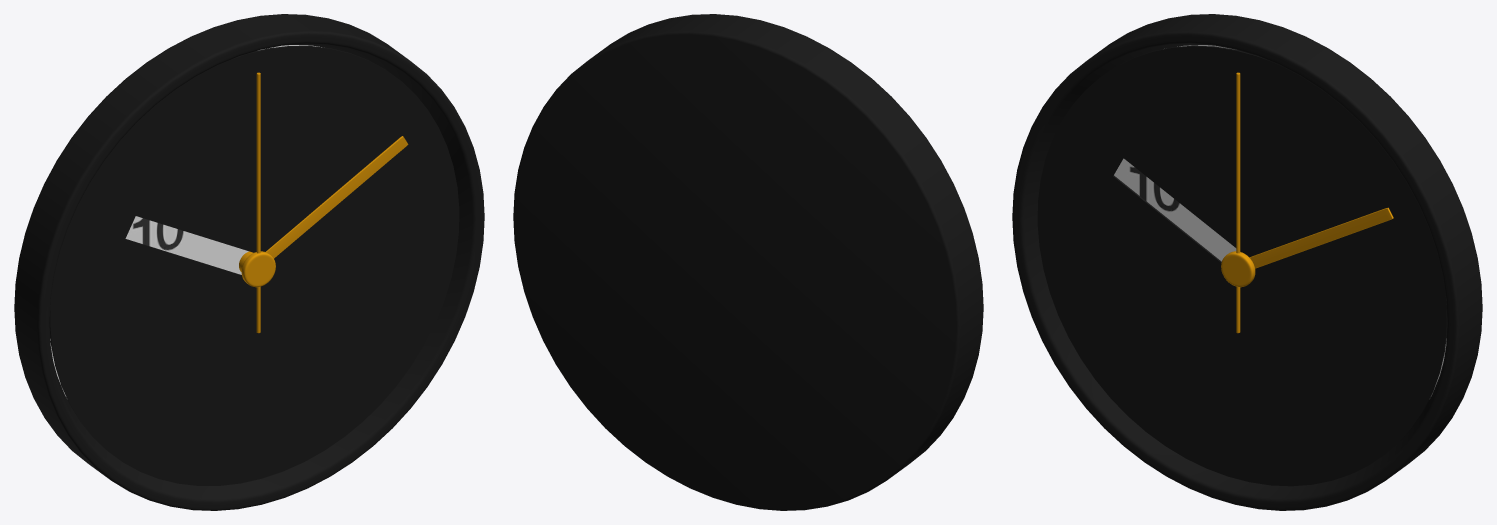
Rendered from Reloj_de_Pared.glb.
3 renders of one model, left to right at view 1: azimuth 30°, elevation 25°; view 2: azimuth 150°, elevation 25°; view 3: azimuth 330°, elevation 25°, orthographic.
Visible parts, largest first — view 1: Hora_RN 2, Cuerpo_RN_Cuerpo_RN, Cuerpo_RN_Cuerpo_RN 2, Secundero_RN 2, Minutero_RN 2; view 2: Cuerpo_RN_Cuerpo_RN; view 3: Hora_RN 2, Cuerpo_RN_Cuerpo_RN, Cuerpo_RN_Cuerpo_RN 2, Secundero_RN 2, Minutero_RN 2.
Boxes of the visible parts, x1,y1,x2,y2 form: Hora_RN 2: (49,46,459,485); Cuerpo_RN_Cuerpo_RN: (14,14,484,510); Cuerpo_RN_Cuerpo_RN 2: (50,45,321,396); Secundero_RN 2: (239,72,275,333); Minutero_RN 2: (266,136,408,258); Cuerpo_RN_Cuerpo_RN: (513,14,983,510); Hora_RN 2: (1037,45,1447,486); Cuerpo_RN_Cuerpo_RN: (1012,14,1482,510); Cuerpo_RN_Cuerpo_RN 2: (1114,45,1446,396); Secundero_RN 2: (1221,72,1255,333); Minutero_RN 2: (1249,207,1393,268).
Bounding box in the file's own units: 0.2362 × 0.2362 × 0.0236.
3 materials, 1 textured.
